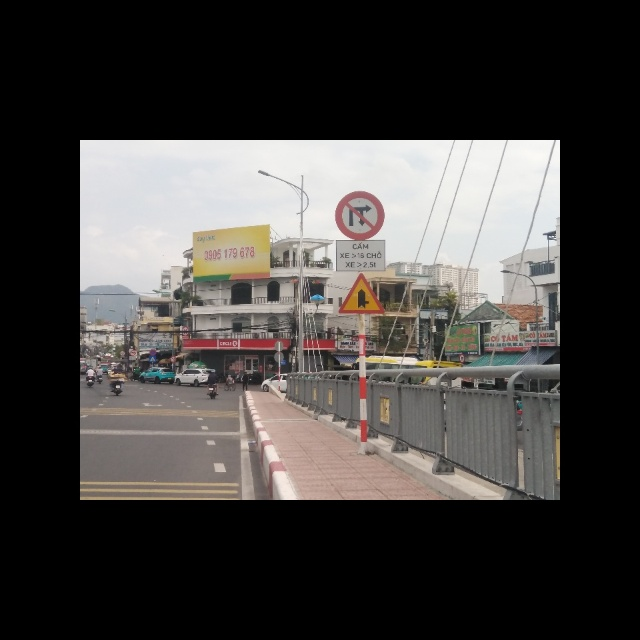Cấm quay đầu và rẽ phải: (333, 190, 384, 241)
Giao nhau với đường không ưu tiên: (339, 272, 386, 313)
